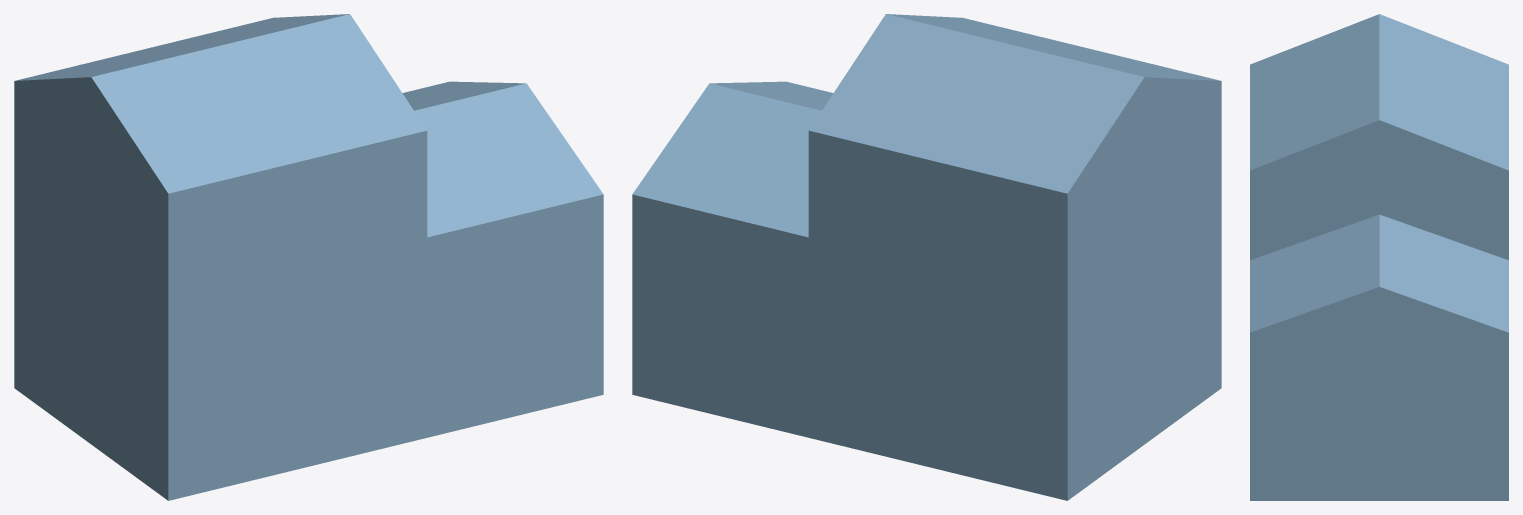
File: House03.fbx
The picture shows the model from 3 angles, left to right: view 1: azimuth 30°, elevation 25°; view 2: azimuth 150°, elevation 25°; view 3: azimuth 270°, elevation 25°; orthographic projection. The views are drawn at different scales.
Parts seen in each view (by area): view 1: Cube; view 2: Cube; view 3: Cube.
Boxes of the visible parts, x1,y1,x2,y2 form: Cube: (14,14,603,500); Cube: (632,14,1221,500); Cube: (1250,14,1508,500).
Size of the model in its own units: 4.55 by 3.67 by 2.79.
